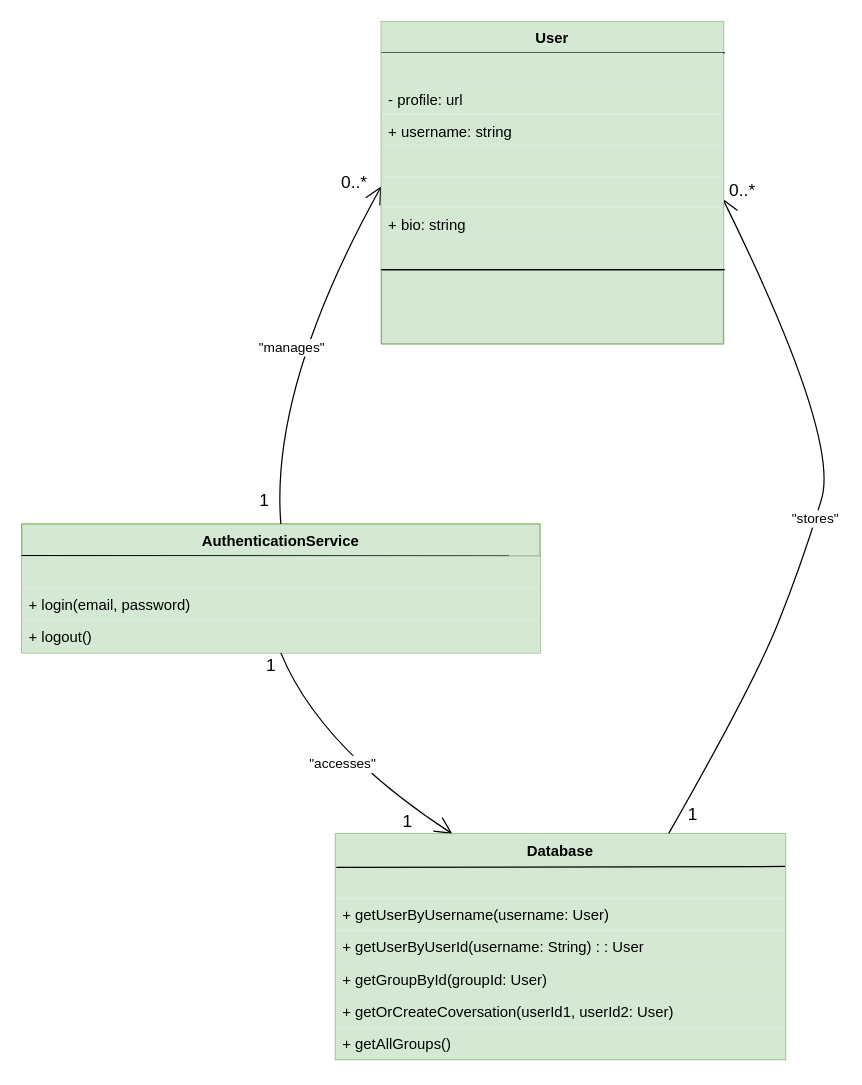
The diagram is 862 pixels wide and 1085 high, and some of its shapes have lost their labels. Each missing label, with the centre of its shape:
+ email: string: the point at 552,160
+ is_Online: string: the point at 552,253
+ phoneNo: string: the point at 552,191
+ signUp() + login() + logout(): the point at 552,306
+ signUp(email, password, username ): the point at 280,572
+ updateUser(user: User): the point at 560,882
+ userId: string: the point at 552,67
